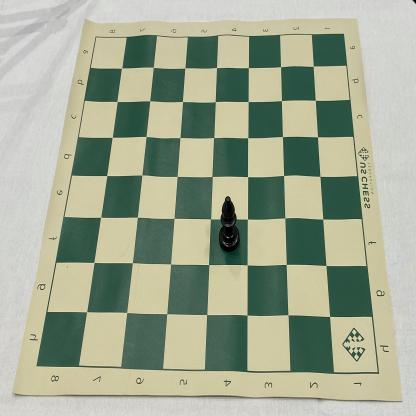black-bishop: (218, 195, 240, 253)
